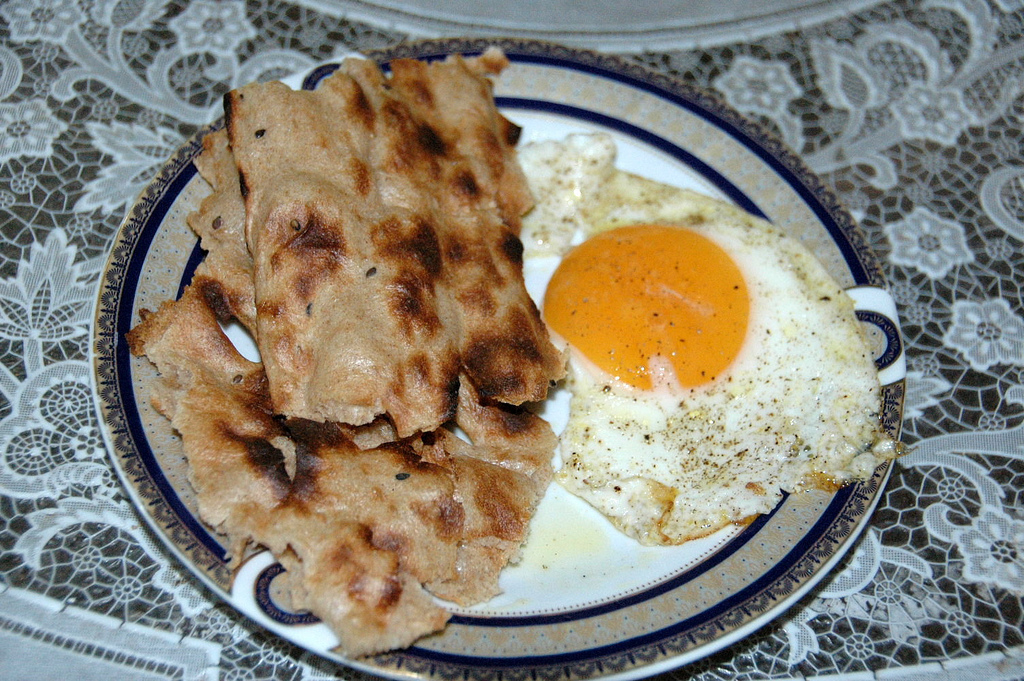fried egg: (519, 145, 878, 522)
